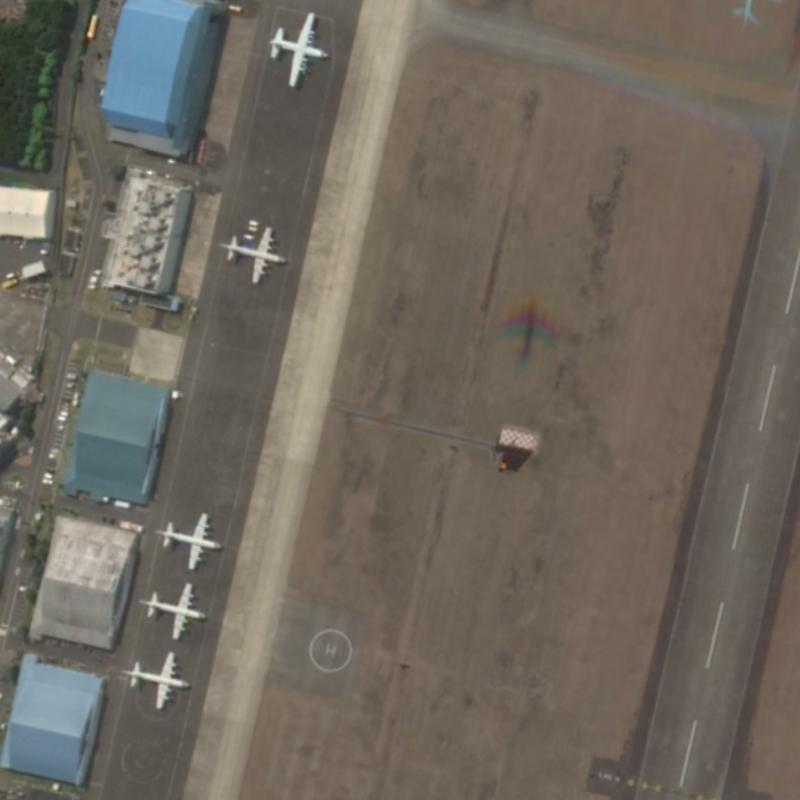A2: (264, 2, 337, 93)
A9: (214, 215, 292, 288), (114, 643, 193, 712), (150, 505, 227, 572), (131, 576, 209, 642)
